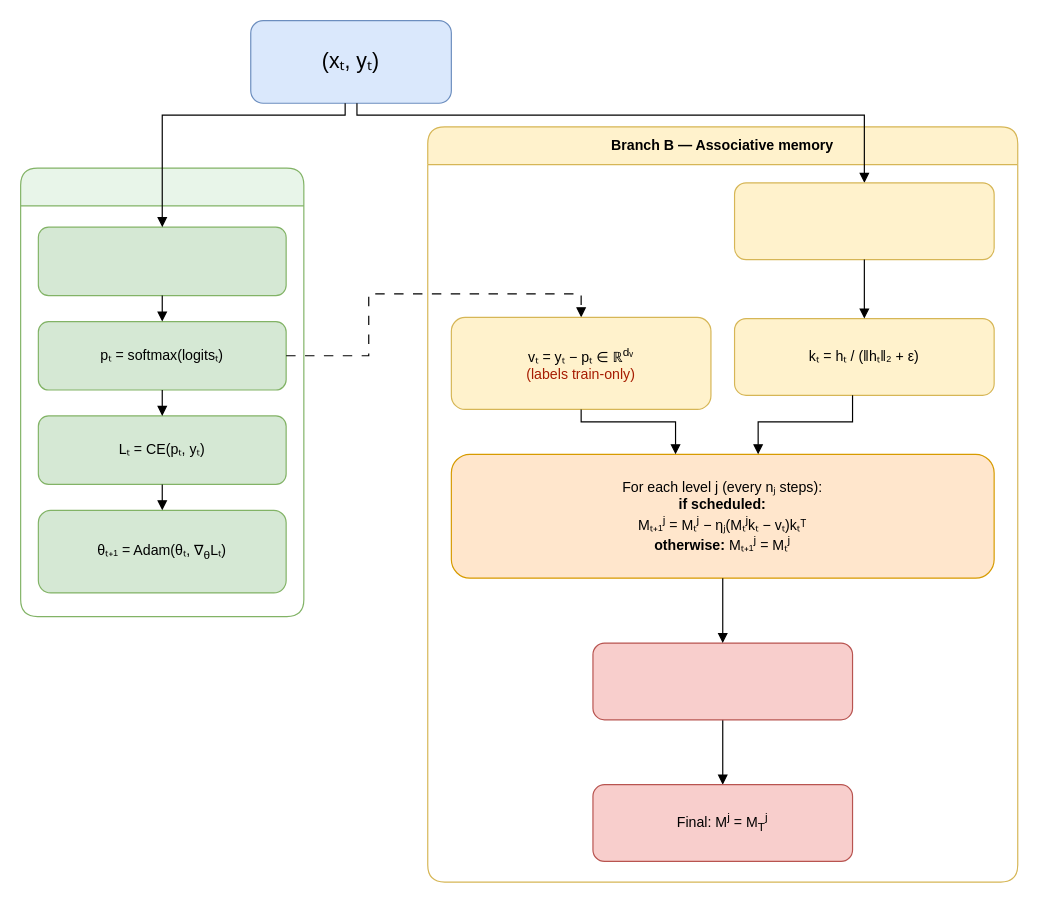
Some shapes in this 1038 by 903 pixel diagram are drawn without their labels. The box of each missing label's shape, as (x1, y1, x2, y2) in pixels:
Branch A — Classifier (Adam): (19, 167, 304, 617)
Forward: logitsₜ = ResNet(θₜ, xₜ): (37, 226, 286, 296)
hₜ = ResNetFeatures(θₜ, xₜ): (733, 182, 994, 260)
Save checkpoint Mₜ j on shared grid t = 1…T: (592, 642, 853, 720)
